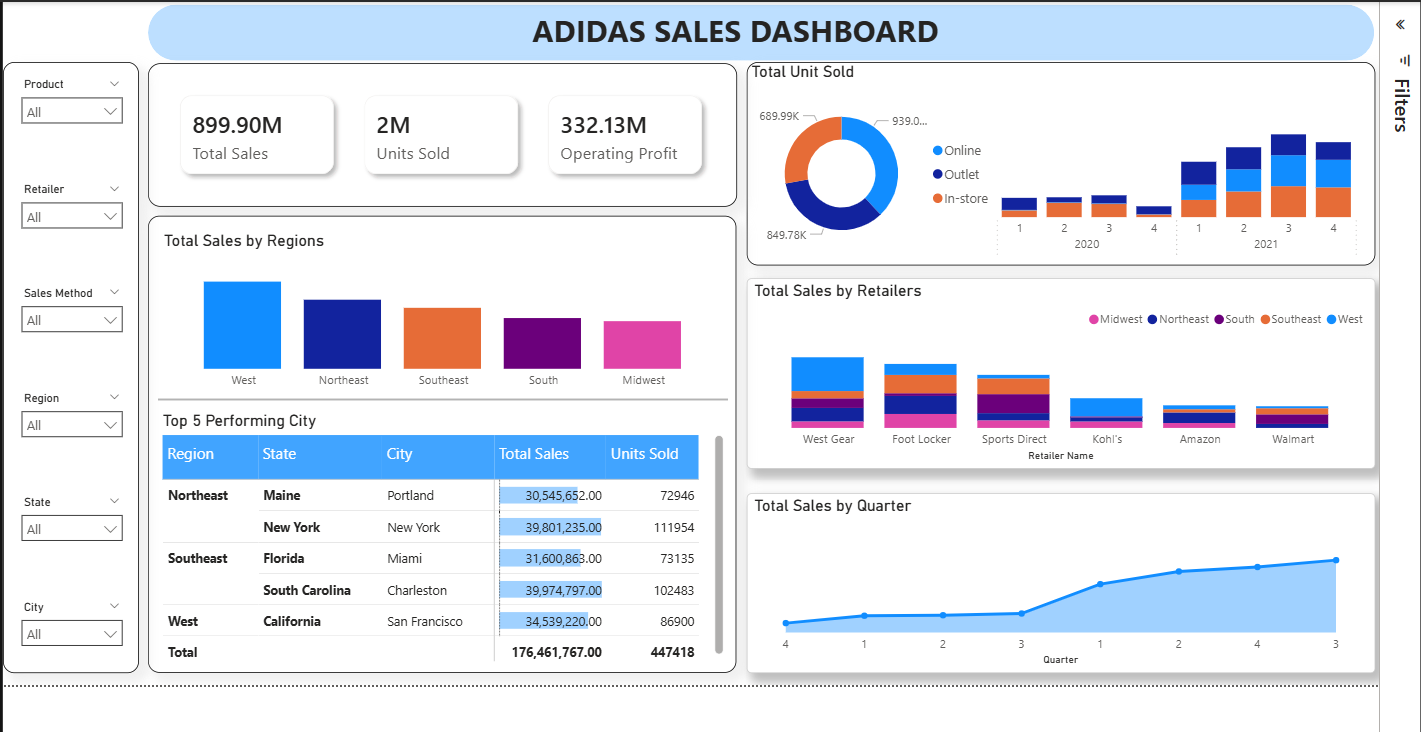

Layout of this report page (visuals, bound fields, positions):
{"tool":"powerbi","page":{"name":"Page 2","canvas":[1450,720],"ordinal":0},"visuals":[{"type":"shape","box":[783.1,62.8,662.2,214.5],"z":0},{"type":"cardVisual","fields":{"Data":["Fact Sales.Total Sales","Fact Sales.Units Sold","Fact Sales.Operating Profit"]},"box":[152.8,64.5,620.4,151.5],"z":1000},{"type":"donutChart","title":"Total Unit Sold","fields":{"Y":["Fact Sales.Units Sold"],"Category":["Dim Sales Method.Method Name"]},"box":[783.1,62.8,268.9,214.5],"z":2000},{"type":"columnChart","fields":{"Y":["Fact Sales.Total Sales"],"Category":["Dim Time.Hierarchy.Year","Dim Time.Hierarchy.Quarter"],"Series":["Dim Sales Method.Method Name"]},"box":[1028.7,87.7,416.6,189.6],"z":3000},{"type":"columnChart","title":"Total Sales by Retailers","fields":{"Category":["Dim Retailer.Retailer Name"],"Y":["Fact Sales.Total Sales"],"Series":["Dim Location.Region"]},"box":[783.5,290.7,662.2,200.5],"z":4000},{"type":"shape","box":[153.1,225.2,620.2,481.9],"z":5000},{"type":"areaChart","fields":{"Category":["Dim Time.Quarter"],"Y":["Fact Sales.Total Sales"]},"box":[783.5,517.6,662.2,189.6],"z":6000},{"type":"columnChart","title":"Total Sales by Regions","fields":{"Y":["Fact Sales.Total Sales"],"Category":["Dim Location.Region"],"Series":["Dim Location.Region"]},"box":[164,240.8,600,175.7],"z":7000},{"type":"pivotTable","title":"Top 5 Performing City","fields":{"Rows":["Dim Location.Region","Dim Location.State","Dim Location.City"],"Values":["Fact Sales.Total Sales","Fact Sales.Units Sold"]},"box":[163.6,430.6,600.7,268.7],"z":8000},{"type":"shape","box":[0,63.2,143.6,644.1],"z":9000},{"type":"slicer","fields":{"Values":["Dim Product.Product Name"]},"box":[9.2,75.1,126.5,73.8],"z":10000},{"type":"slicer","fields":{"Values":["Dim Retailer.Retailer Name"]},"box":[9.2,185.2,126.5,73.8],"z":11000},{"type":"slicer","fields":{"Values":["Dim Sales Method.Method Name"]},"box":[9.2,295.3,126.5,73.8],"z":12000},{"type":"slicer","fields":{"Values":["Dim Location.Region"]},"box":[9.2,405.4,126.5,73.8],"z":13000},{"type":"slicer","fields":{"Values":["Dim Location.State"]},"box":[9.2,515.6,126.5,73.8],"z":14000},{"type":"slicer","fields":{"Values":["Dim Location.City"]},"box":[9.2,625.7,126.5,73.8],"z":15000},{"type":"shape","box":[152.8,2.6,1292.2,59.3],"z":16000},{"type":"textbox","box":[333.3,2.6,877.3,56.6],"z":17000},{"type":"shape","box":[163.3,401.8,600.7,34.2],"z":18000}]}

Visuals, with their boxes in screenshot pixels (x1, y1, x2, y2):
shape: {"x1": 753, "y1": 57, "x2": 1393, "y2": 264}
cardVisual - Fact Sales.Total Sales x Fact Sales.Units Sold: {"x1": 144, "y1": 59, "x2": 744, "y2": 205}
"Total Unit Sold" donutChart: {"x1": 753, "y1": 57, "x2": 1013, "y2": 264}
columnChart - Fact Sales.Total Sales x Dim Time.Hierarchy.Year: {"x1": 990, "y1": 81, "x2": 1393, "y2": 264}
"Total Sales by Retailers" columnChart: {"x1": 754, "y1": 277, "x2": 1393, "y2": 471}
shape: {"x1": 144, "y1": 214, "x2": 744, "y2": 680}
areaChart - Dim Time.Quarter x Fact Sales.Total Sales: {"x1": 754, "y1": 497, "x2": 1393, "y2": 680}
"Total Sales by Regions" columnChart: {"x1": 155, "y1": 229, "x2": 735, "y2": 399}
"Top 5 Performing City" pivotTable: {"x1": 154, "y1": 412, "x2": 735, "y2": 672}
shape: {"x1": 0, "y1": 57, "x2": 135, "y2": 680}
slicer - Dim Product.Product Name: {"x1": 5, "y1": 69, "x2": 127, "y2": 140}
slicer - Dim Retailer.Retailer Name: {"x1": 5, "y1": 175, "x2": 127, "y2": 247}
slicer - Dim Sales Method.Method Name: {"x1": 5, "y1": 282, "x2": 127, "y2": 353}
slicer - Dim Location.Region: {"x1": 5, "y1": 388, "x2": 127, "y2": 459}
slicer - Dim Location.State: {"x1": 5, "y1": 495, "x2": 127, "y2": 566}
slicer - Dim Location.City: {"x1": 5, "y1": 601, "x2": 127, "y2": 672}
shape: {"x1": 144, "y1": 0, "x2": 1393, "y2": 56}
textbox: {"x1": 318, "y1": 0, "x2": 1166, "y2": 54}
shape: {"x1": 154, "y1": 385, "x2": 735, "y2": 418}
